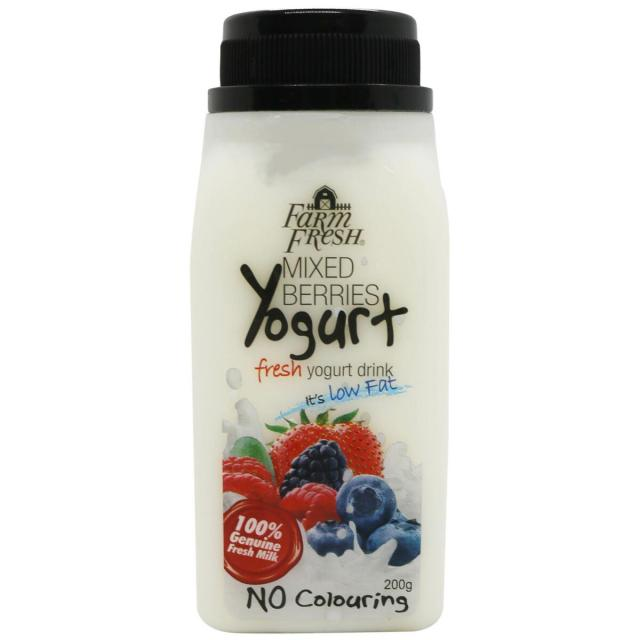bottle: (187, 2, 453, 633)
